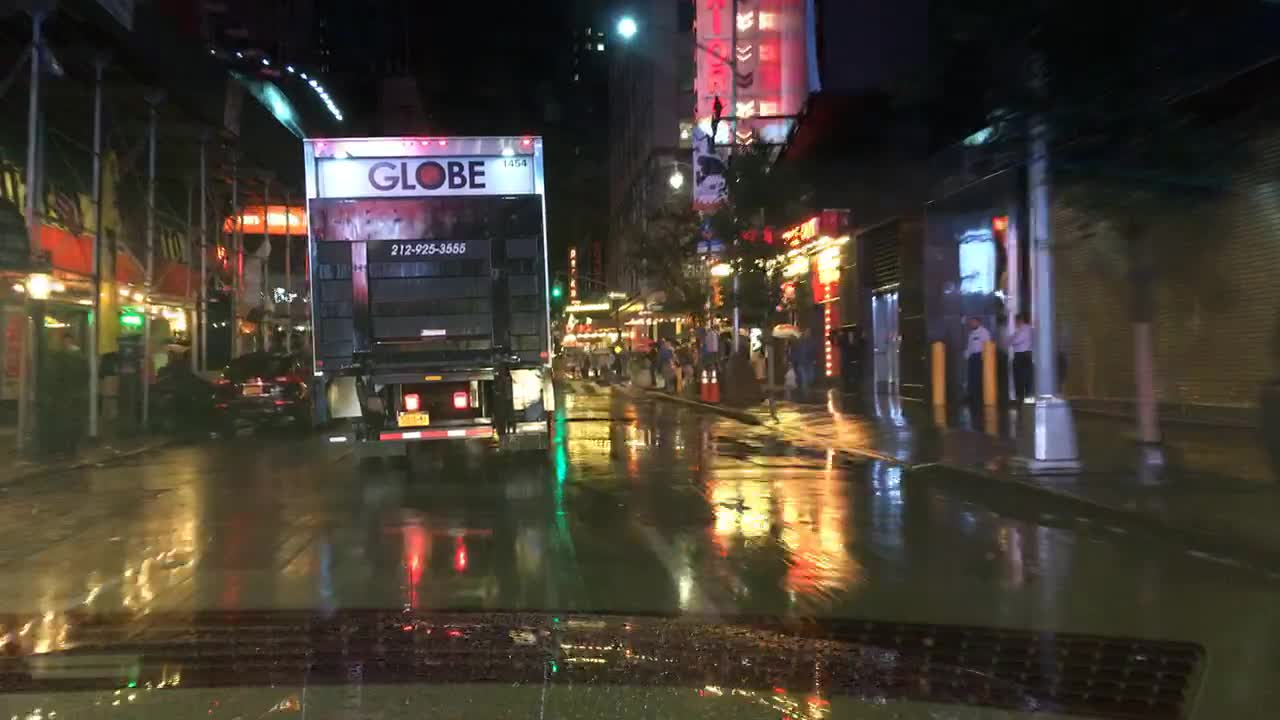car: (212, 350, 320, 440), (553, 347, 583, 377)
person: (41, 332, 87, 462), (959, 317, 987, 404), (1010, 314, 1032, 410), (794, 329, 815, 396), (990, 317, 1007, 396), (674, 335, 694, 387), (700, 323, 718, 374), (670, 338, 685, 396), (782, 335, 796, 393), (754, 350, 769, 402), (643, 341, 658, 389), (715, 332, 730, 368), (694, 326, 703, 378), (158, 348, 173, 375), (180, 347, 192, 374), (610, 354, 621, 380), (589, 350, 598, 380), (577, 351, 586, 380), (550, 335, 559, 362), (300, 329, 312, 348), (272, 323, 281, 348), (288, 327, 297, 350)
traffic light: (550, 278, 561, 302)
traffic sign: (612, 344, 622, 356)
truck: (300, 136, 552, 468)
